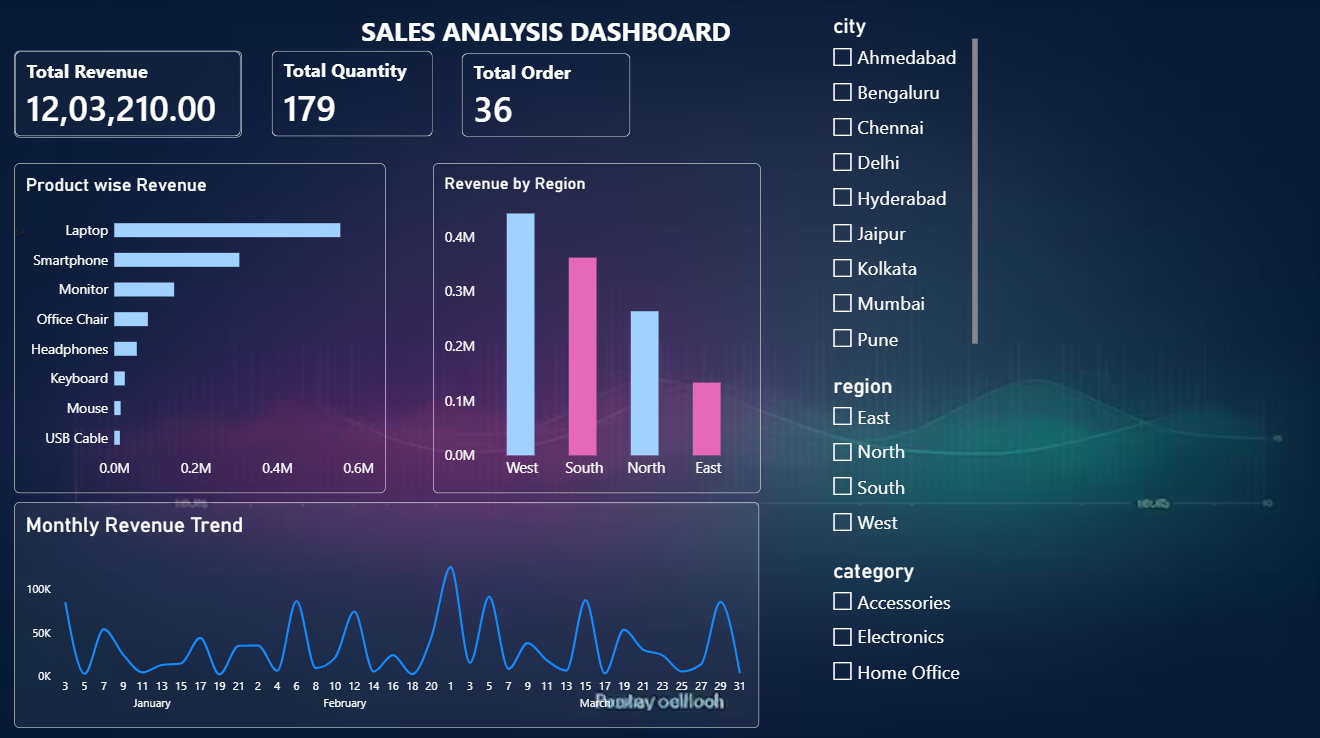

This screenshot's page, from the dashboard's own definition file:
{"tool":"powerbi","page":{"name":"Page 1","canvas":[1920,1080],"ordinal":0},"visuals":[{"type":"cardVisual","fields":{"Data":["Sum(public sales_data.revenue)"]},"box":[22.6,78.2,329.3,125.6],"z":0},{"type":"textbox","box":[23,329,224,150],"z":1000},{"type":"textbox","box":[23,544,224,150],"z":2000},{"type":"textbox","box":[23,759,224,150],"z":3000},{"type":"textbox","box":[22.6,22.6,1539.6,59.7],"z":4000},{"type":"cardVisual","fields":{"Data":["Sum(public sales_data.quantity)"]},"box":[396.3,77.8,233.4,124.9],"z":5000},{"type":"cardVisual","fields":{"Data":["CountNonNull(public sales_data.order_id)"]},"box":[671.4,81.4,244.9,121.4],"z":6000},{"type":"clusteredColumnChart","title":"Revenue by Region","fields":{"Category":["public sales_data.region"],"Y":["Sum(public sales_data.revenue)"]},"box":[629.8,240.7,474.1,477.8],"z":7000},{"type":"clusteredBarChart","title":"Product wise Revenue","fields":{"Category":["public sales_data.product"],"Y":["Sum(public sales_data.revenue)"]},"box":[23.5,240.7,537.5,477.8],"z":8000},{"type":"lineChart","title":"Monthly Revenue Trend","fields":{"Y":["Sum(public sales_data.revenue)"],"Category":["public sales_data.order_date.Variation.Date Hierarchy.Month","public sales_data.order_date.Variation.Date Hierarchy.Day"]},"box":[23.5,731.1,1078.6,327.5],"z":9000},{"type":"slicer","fields":{"Values":["public sales_data.region"]},"box":[1201.6,544.7,202.7,258.8],"z":9001},{"type":"slicer","fields":{"Values":["public sales_data.city"]},"box":[1201.6,23.5,217.2,490.4],"z":9002},{"type":"slicer","fields":{"Values":["public sales_data.category"]},"box":[1201.6,812.5,217.2,246.1],"z":9003}]}

Visuals, with their boxes in screenshot pixels (x1, y1, x2, y2), scaled from the page's 1920x1080 canvas onto the 1320x738 screenshot:
cardVisual - Sum(public sales_data.revenue): [16,53,242,139]
textbox: [16,225,170,327]
textbox: [16,372,170,474]
textbox: [16,519,170,621]
textbox: [16,15,1074,56]
cardVisual - Sum(public sales_data.quantity): [272,53,433,139]
cardVisual - CountNonNull(public sales_data.order_id): [462,56,630,139]
"Revenue by Region" clusteredColumnChart: [433,164,759,491]
"Product wise Revenue" clusteredBarChart: [16,164,386,491]
"Monthly Revenue Trend" lineChart: [16,500,758,723]
slicer - public sales_data.region: [826,372,965,549]
slicer - public sales_data.city: [826,16,975,351]
slicer - public sales_data.category: [826,555,975,723]
